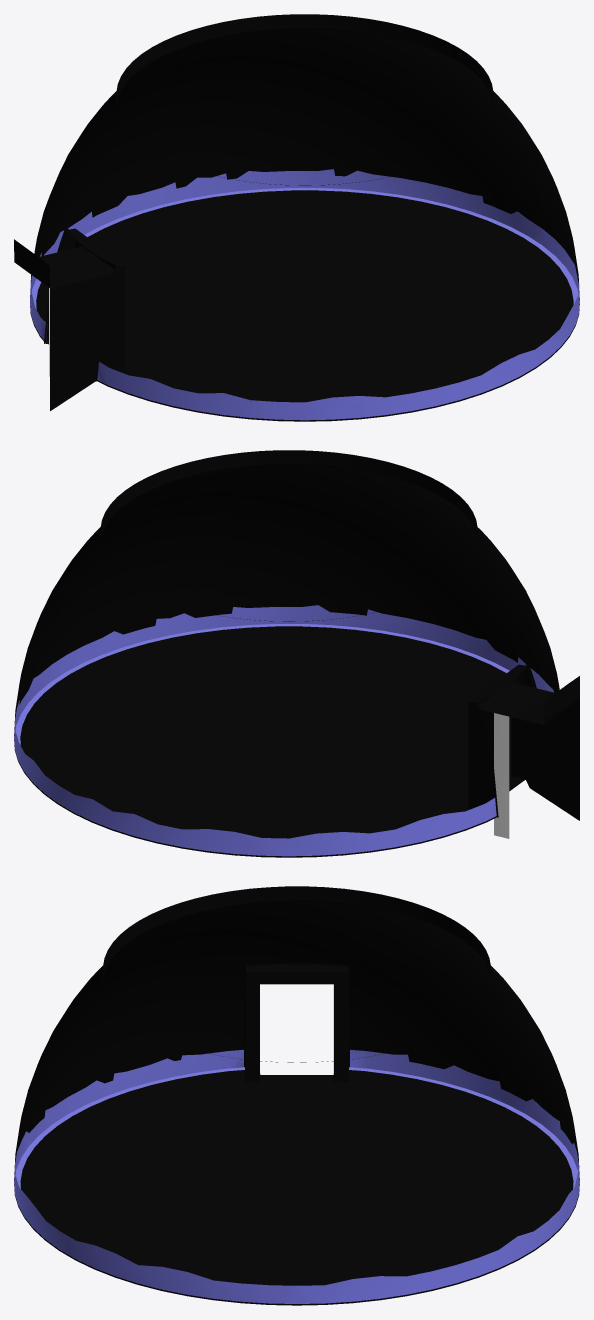
Rendered from FR_SectionA_01.fbx.
The picture shows the model from 3 angles, top to bottom: view 1: azimuth 30°, elevation 25°; view 2: azimuth 150°, elevation 25°; view 3: azimuth 270°, elevation 25°; orthographic projection. The views are drawn at different scales.
Visible parts, largest first — view 1: FR_SectionA_01_LOD0, Dirt_LOD0, Drain_LOD0; view 2: FR_SectionA_01_LOD0, Dirt_LOD0, Drain_LOD0; view 3: FR_SectionA_01_LOD0, Dirt_LOD0, Drain_LOD0.
Part boxes in pixels (x1,y1,x2,y2): FR_SectionA_01_LOD0: (14, 14, 579, 421); Dirt_LOD0: (30, 169, 579, 420); Drain_LOD0: (30, 188, 579, 420); FR_SectionA_01_LOD0: (14, 450, 579, 857); Dirt_LOD0: (14, 605, 553, 856); Drain_LOD0: (14, 624, 509, 856); FR_SectionA_01_LOD0: (14, 886, 579, 1305); Dirt_LOD0: (14, 1049, 579, 1303); Drain_LOD0: (14, 1067, 579, 1303).
Bounding box in the file's own units: 3647 × 1622 × 3399.
